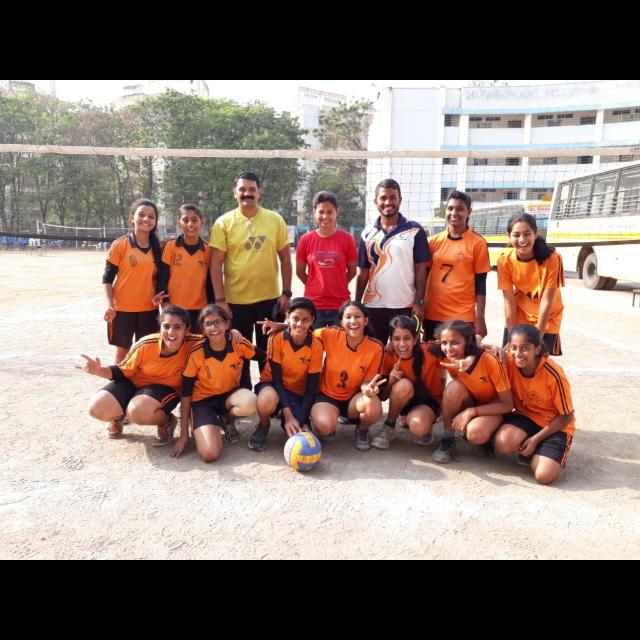head: (508, 324, 542, 370), (440, 320, 474, 364), (506, 212, 540, 255), (198, 304, 232, 344), (161, 307, 193, 349), (389, 316, 419, 358), (374, 178, 404, 218), (286, 297, 316, 337), (341, 301, 372, 339), (234, 172, 262, 208), (445, 192, 473, 228), (130, 200, 160, 233), (178, 205, 206, 237), (312, 196, 340, 228)
person: (73, 303, 245, 449), (207, 170, 295, 422), (255, 300, 390, 454), (352, 177, 432, 429), (166, 302, 290, 464), (383, 318, 517, 466), (412, 189, 492, 427), (101, 196, 173, 428), (477, 323, 578, 487), (369, 314, 485, 452), (294, 189, 360, 427), (494, 211, 568, 415), (156, 202, 218, 422), (248, 295, 326, 453)
